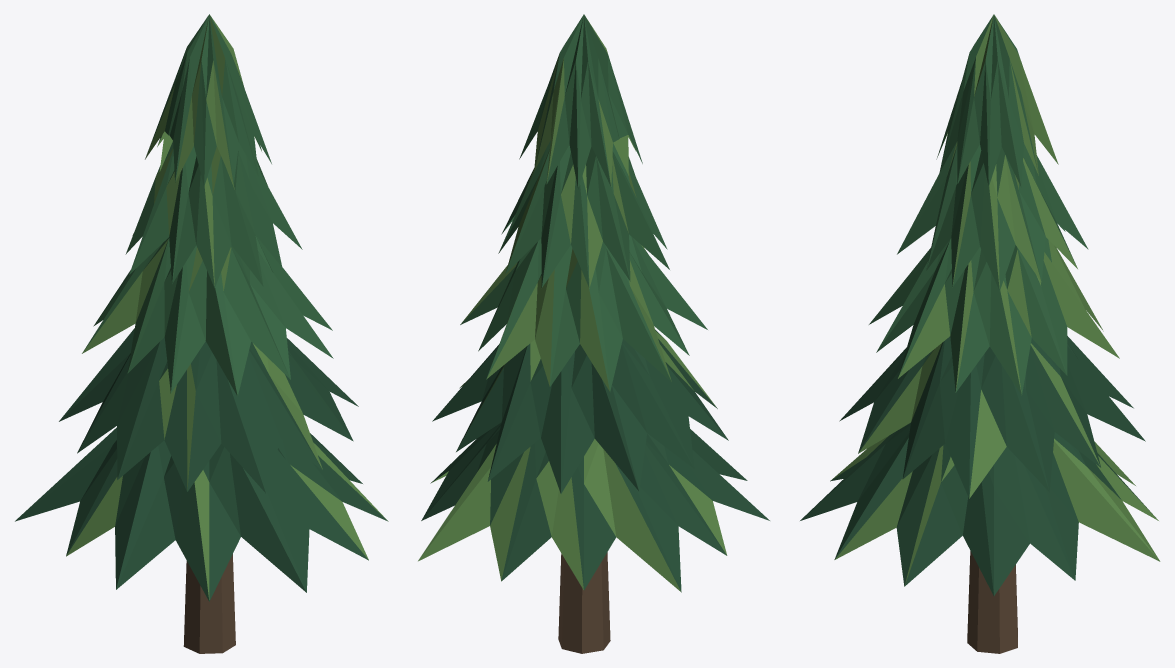
Rendered from pine-tree.glb.
The picture shows the model from 3 angles, left to right: view 1: azimuth 30°, elevation 25°; view 2: azimuth 150°, elevation 25°; view 3: azimuth 270°, elevation 25°; orthographic projection.
Visible parts, largest first — view 1: Static_mesh; view 2: Static_mesh; view 3: Static_mesh.
Part boxes in pixels (bbox=[...]): Static_mesh: bbox=[15, 14, 388, 653]; Static_mesh: bbox=[418, 14, 769, 653]; Static_mesh: bbox=[800, 14, 1160, 653].
Size of the model in its own units: 2.07 by 4.14 by 2.16.
